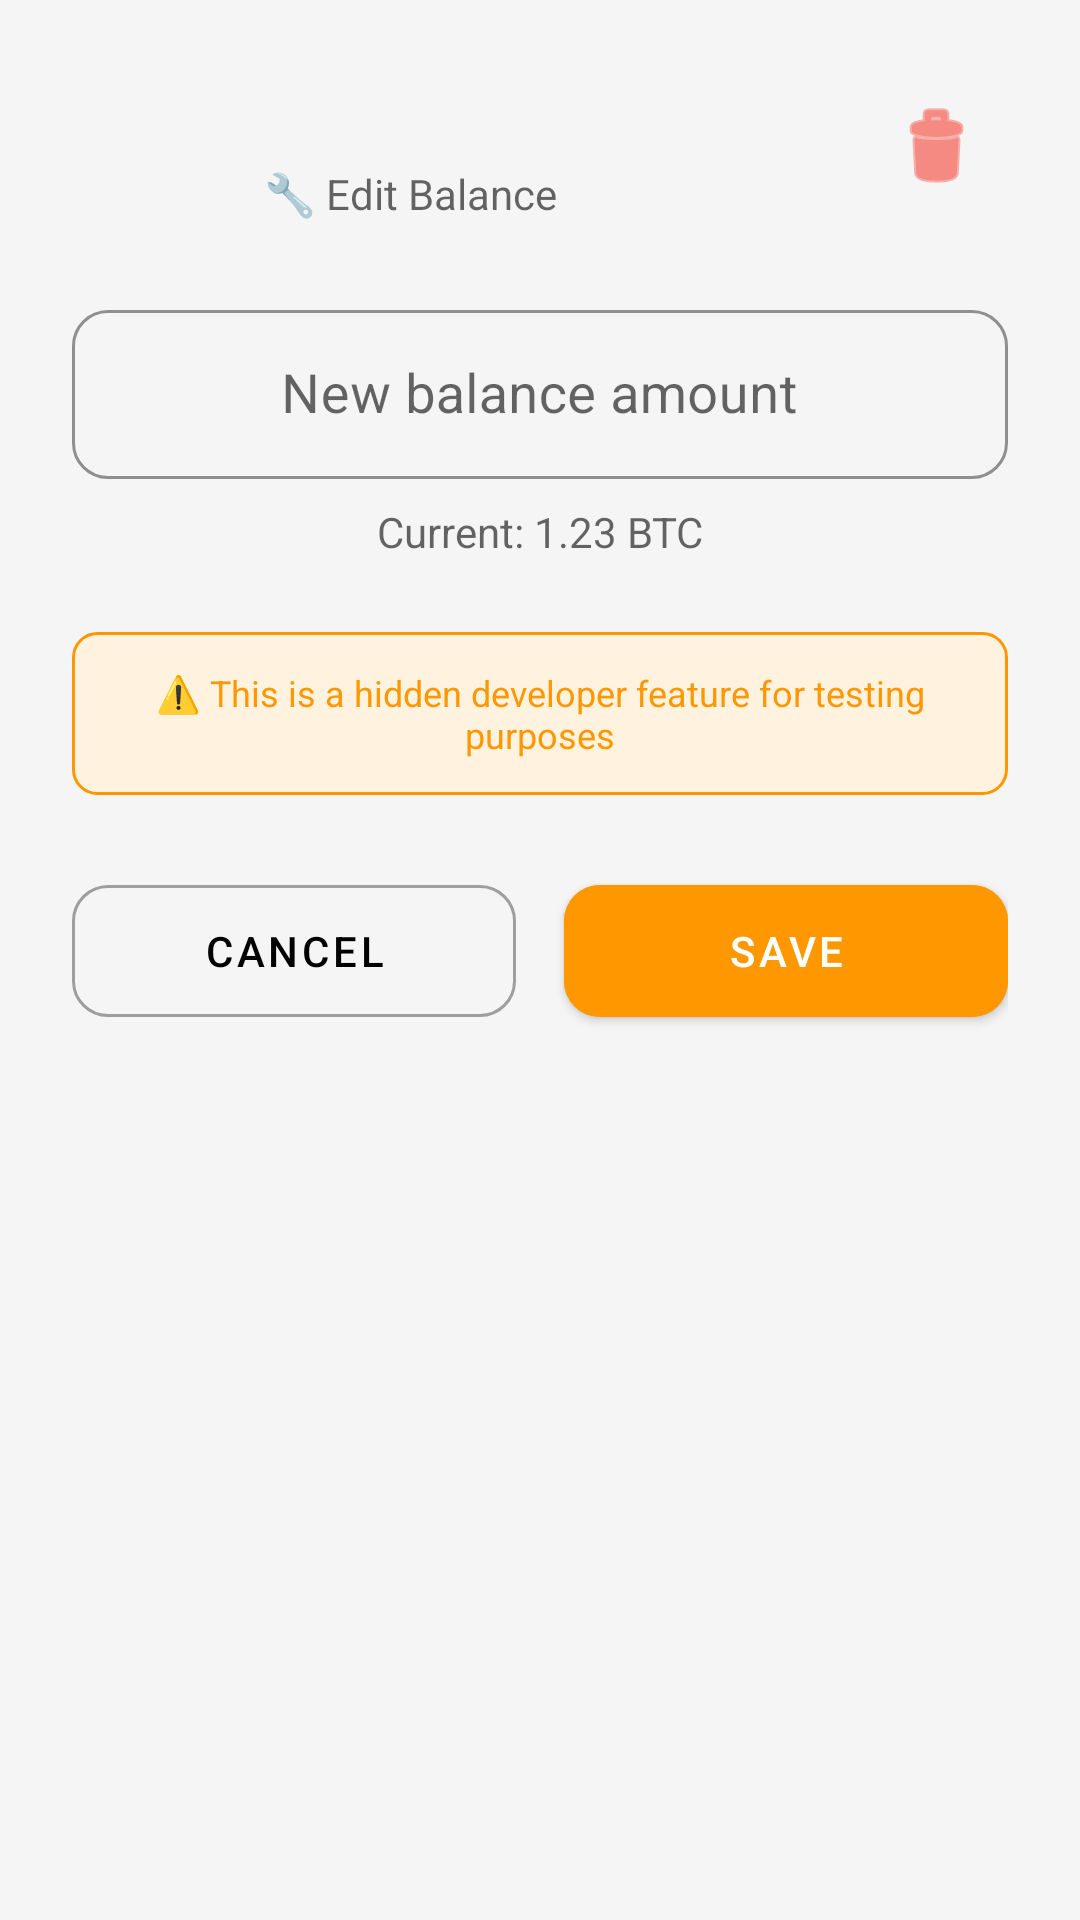

Locate icon controls on the screen. Image size 1080 x 1920, boxes as {"left": x1, "top": y1, "right": x2, "bottom": y2}.
Delete asset: {"left": 909, "top": 108, "right": 964, "bottom": 183}
